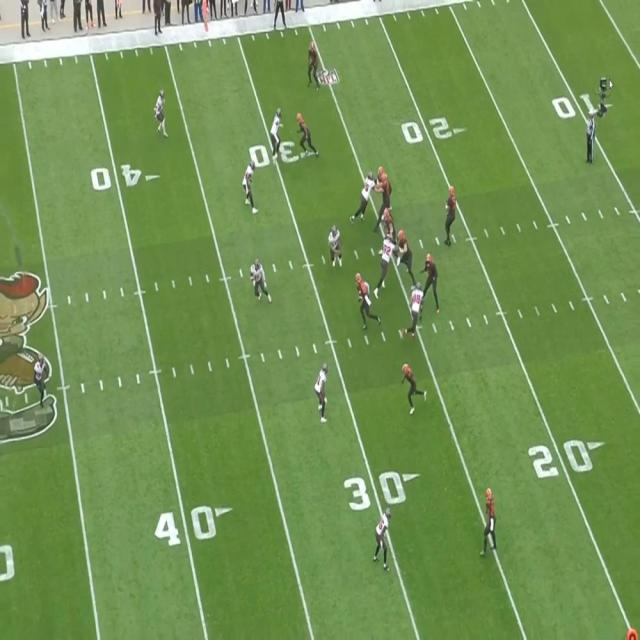db: (376, 508, 392, 565), (403, 364, 419, 413), (484, 486, 495, 553), (318, 362, 330, 420), (36, 356, 46, 408), (155, 89, 166, 134), (274, 107, 284, 153)
lb: (252, 262, 269, 300), (244, 163, 256, 209)
qb: (447, 186, 459, 242)
skill: (297, 114, 314, 157), (308, 38, 318, 82)
